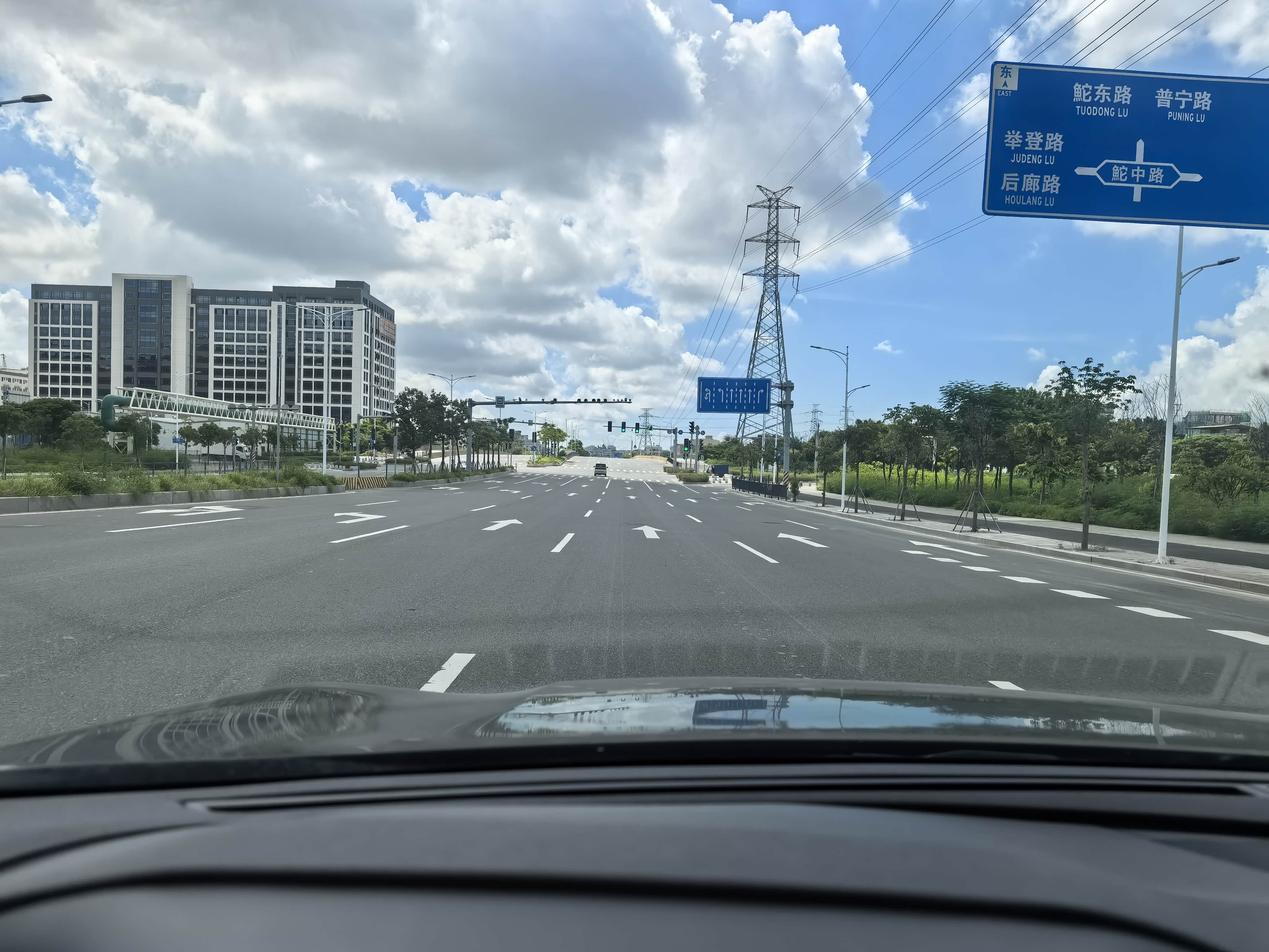lane: (418, 654, 485, 690), (328, 524, 415, 549), (731, 540, 781, 566), (778, 529, 831, 549), (334, 510, 388, 526), (551, 530, 577, 557), (481, 517, 524, 533), (632, 524, 666, 539), (786, 519, 821, 530), (684, 513, 704, 524), (471, 504, 497, 511), (520, 493, 542, 500), (735, 506, 753, 512), (585, 509, 593, 519), (566, 493, 580, 497), (667, 502, 675, 508), (628, 494, 636, 500), (595, 498, 602, 503)
